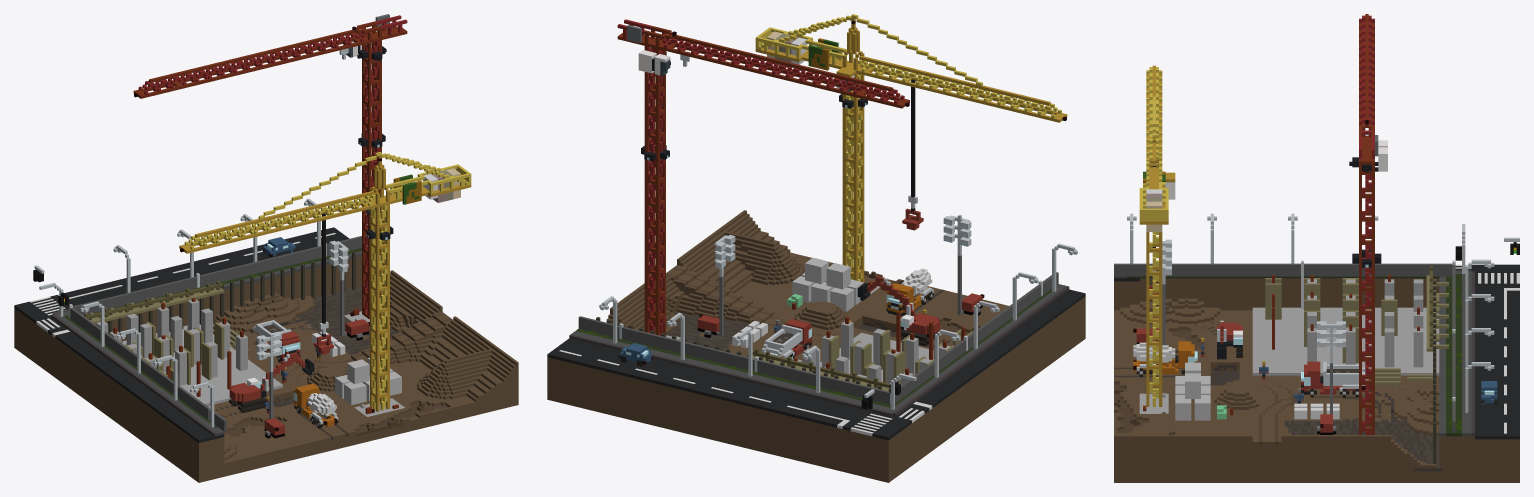
File: Construction site.obj
3 views of the same model, side by side, from view 1: azimuth 30°, elevation 25°; view 2: azimuth 150°, elevation 25°; view 3: azimuth 270°, elevation 25° (orthographic). The views are drawn at different scales.
Bounding box in the file's own units: 126 × 115 × 126.
1 material, 1 textured.
